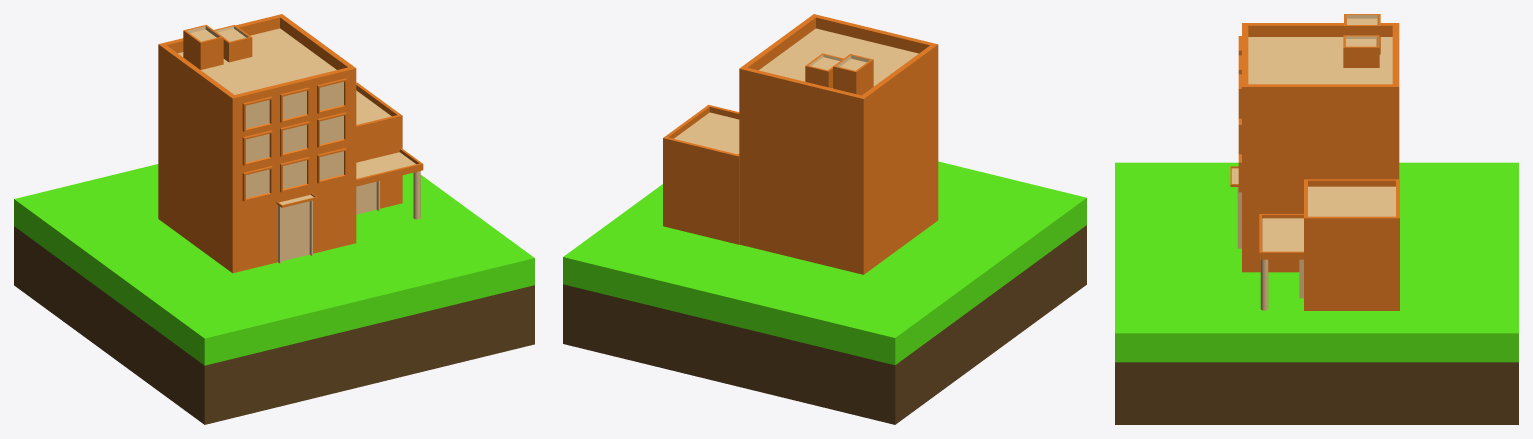
The model's file is Bricks32.glb.
3 views of the same model, side by side, from view 1: azimuth 30°, elevation 25°; view 2: azimuth 150°, elevation 25°; view 3: azimuth 270°, elevation 25° (orthographic). The views are drawn at different scales.
Visible parts, largest first — view 1: Cube, Brick32; view 2: Cube, Brick32; view 3: Cube, Brick32.
Part boxes in pixels (x1,y1,x2,y2): Cube: (14, 164, 534, 424); Brick32: (158, 14, 423, 273); Cube: (563, 161, 1086, 424); Brick32: (663, 14, 938, 274); Cube: (1115, 162, 1518, 424); Brick32: (1230, 14, 1399, 310).
Size of the model in its own units: 2 by 1.61 by 2.
